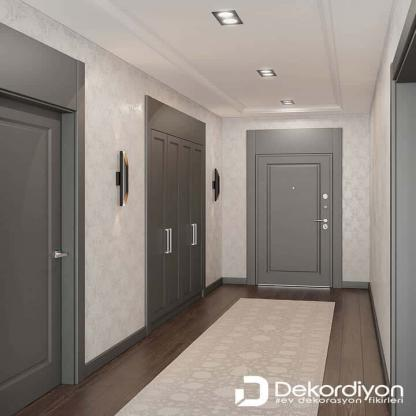door: (255, 153, 332, 288)
